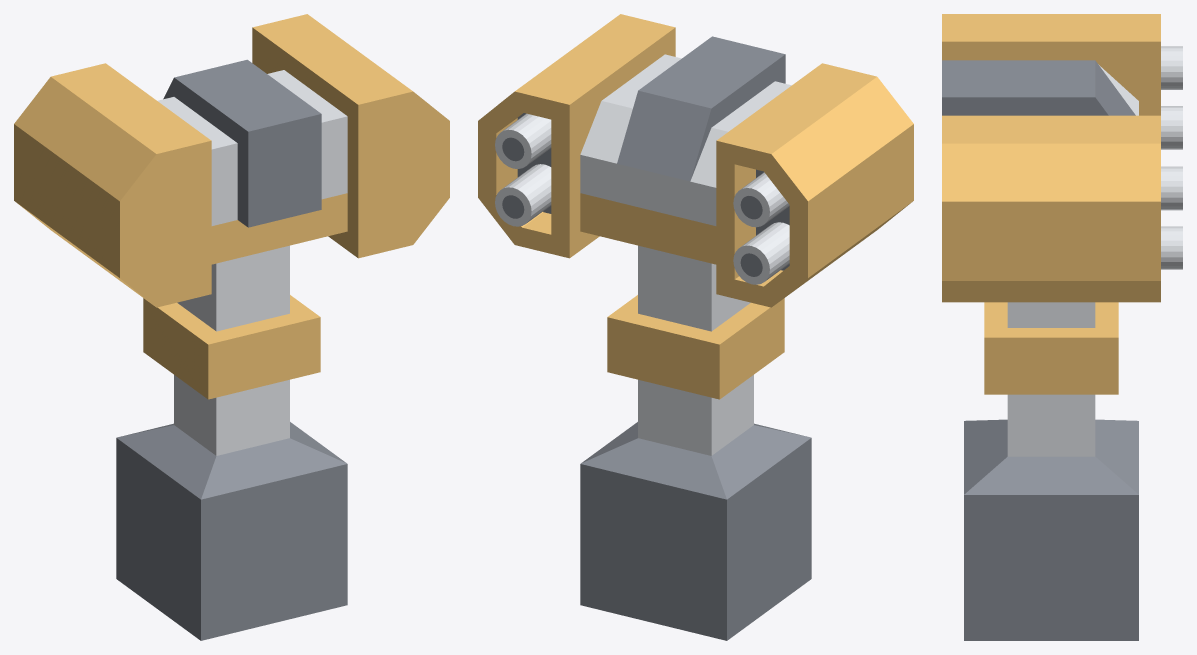
File: turret_2.fbx
3 views of the same model, side by side, from view 1: azimuth 30°, elevation 25°; view 2: azimuth 150°, elevation 25°; view 3: azimuth 270°, elevation 25° (orthographic). The views are drawn at different scales.
Visible parts, largest first — view 1: turret_G2_head, turret_G2_base; view 2: turret_G2_head, turret_G2_base; view 3: turret_G2_head, turret_G2_base.
Boxes of the visible parts, bbox=[...] form: turret_G2_head: bbox=[14, 14, 449, 307]; turret_G2_base: bbox=[116, 245, 347, 640]; turret_G2_head: bbox=[478, 14, 913, 307]; turret_G2_base: bbox=[580, 245, 811, 640]; turret_G2_head: bbox=[942, 14, 1182, 302]; turret_G2_base: bbox=[964, 302, 1138, 640].
Size of the model in its own units: 0.9 by 1.32 by 0.55.
